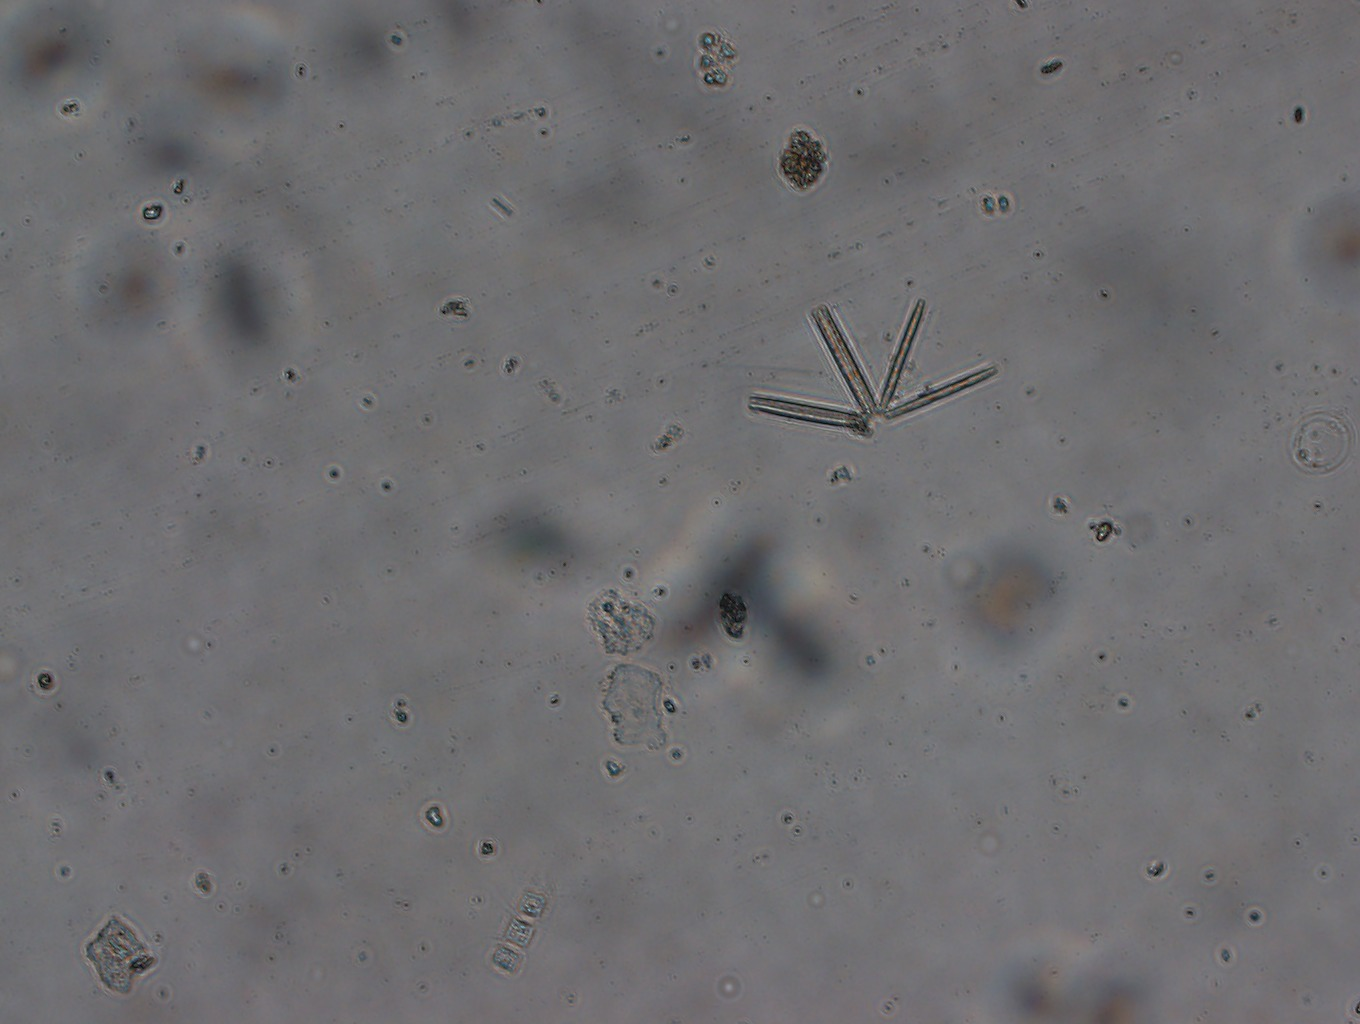thalassionema nitzschioides: (746, 300, 999, 428)
